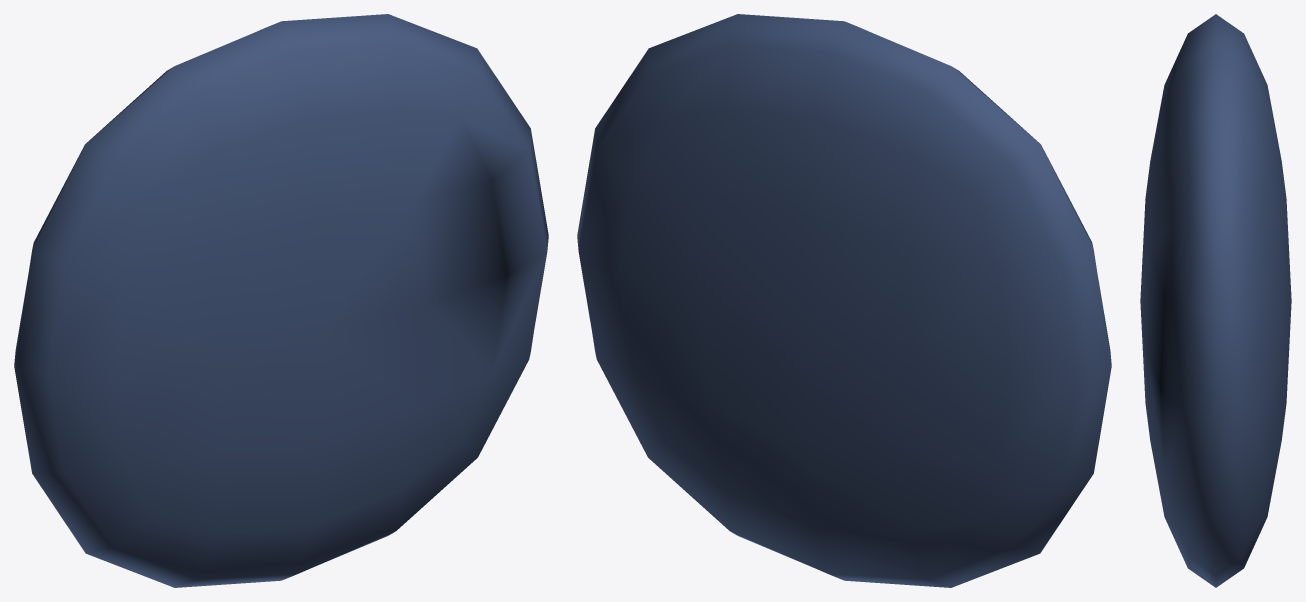
Rendered from cub.fbx.
3 views of the same model, side by side, from view 1: azimuth 30°, elevation 25°; view 2: azimuth 150°, elevation 25°; view 3: azimuth 270°, elevation 25° (orthographic). The views are drawn at different scales.
Visible parts, largest first — view 1: Cube; view 2: Cube; view 3: Cube.
Part boxes in pixels (left/top/right/bottom): Cube: left=14, top=14, right=548, bottom=587; Cube: left=577, top=14, right=1111, bottom=587; Cube: left=1140, top=14, right=1291, bottom=587.
Bounding box in the file's own units: 18.49 × 18.49 × 4.94.
